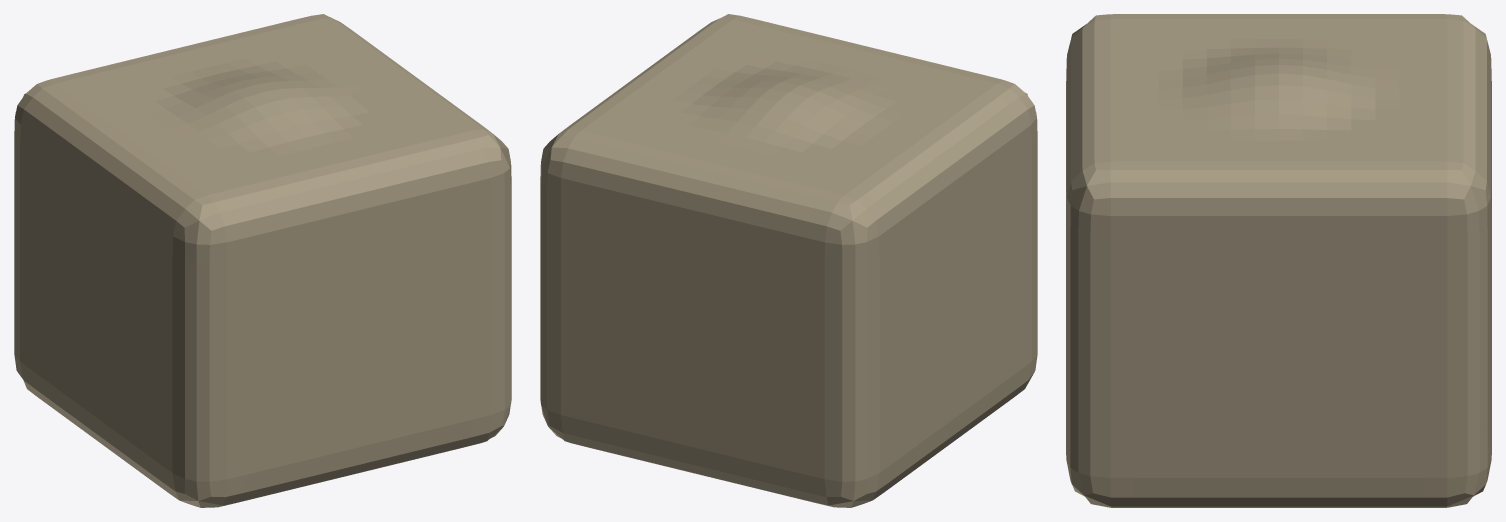
File: CAL-POF-std.glb
3 views of the same model, side by side, from view 1: azimuth 30°, elevation 25°; view 2: azimuth 150°, elevation 25°; view 3: azimuth 270°, elevation 25° (orthographic). The views are drawn at different scales.
Visible parts, largest first — view 1: pillow-pouf:pbr; view 2: pillow-pouf:pbr; view 3: pillow-pouf:pbr.
Part boxes in pixels (left/top/right/bottom): pillow-pouf:pbr: left=14, top=14, right=511, bottom=507; pillow-pouf:pbr: left=540, top=14, right=1037, bottom=507; pillow-pouf:pbr: left=1066, top=14, right=1491, bottom=507.
Bounding box in the file's own units: 0.45 × 0.4385 × 0.45.
